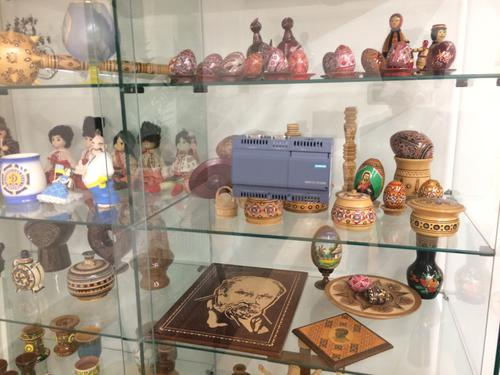iot2000: (230, 133, 334, 204)
